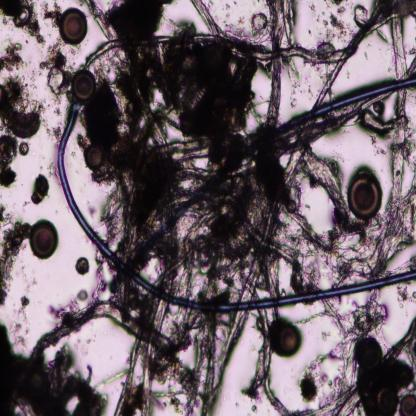Background material: (0, 322, 109, 416), (358, 336, 416, 408), (0, 219, 32, 304), (0, 76, 42, 136), (110, 0, 173, 39), (41, 43, 72, 100), (0, 132, 19, 188), (14, 289, 32, 346), (0, 36, 25, 73), (320, 14, 353, 40), (27, 3, 45, 48), (247, 9, 272, 37), (32, 172, 48, 206), (300, 374, 320, 400), (42, 3, 62, 28), (352, 2, 369, 30), (397, 284, 416, 308), (174, 19, 199, 37), (0, 0, 25, 17), (75, 257, 90, 278), (0, 199, 10, 224), (332, 0, 345, 14), (77, 288, 88, 303), (307, 1, 315, 12)
Cellulose filter fibre: (241, 123, 321, 304), (252, 310, 362, 414), (363, 89, 416, 277), (81, 35, 351, 69), (31, 301, 170, 363), (182, 315, 249, 415), (302, 146, 351, 224), (264, 0, 294, 127), (139, 298, 168, 414), (114, 337, 140, 415), (390, 2, 410, 81), (86, 1, 119, 41), (191, 0, 221, 35)
Diatom: (349, 174, 382, 219), (29, 218, 58, 260), (60, 7, 88, 45), (357, 338, 382, 370), (72, 70, 98, 100), (276, 322, 300, 352), (84, 142, 105, 170), (376, 388, 398, 414), (400, 392, 416, 416), (14, 5, 30, 28), (18, 137, 32, 156)
Microfibre: (56, 100, 416, 318), (108, 75, 416, 289)
